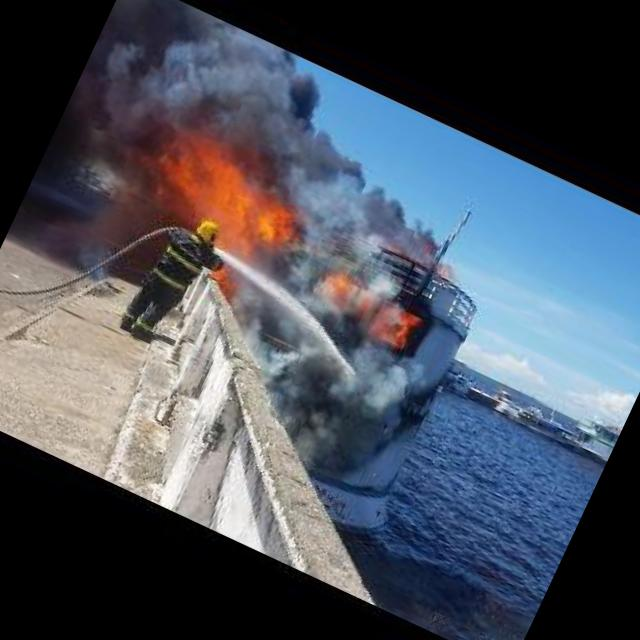fire: (132, 109, 328, 277), (372, 299, 428, 351), (320, 262, 360, 300)
smoke: (59, 0, 463, 279), (197, 292, 431, 491)
